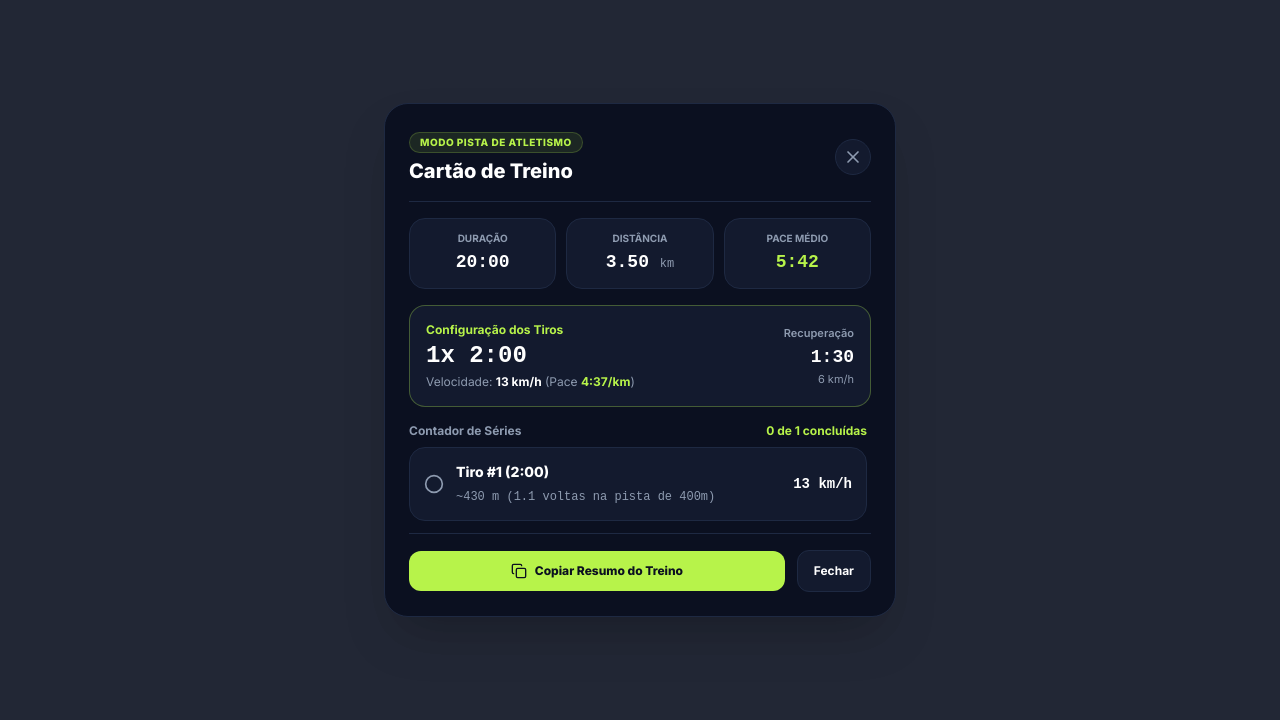
Scenario: TrackWorkoutCardModal Component › deve permitir marcar séries no checklist interativo
The image size is (1280, 720).
Expected: the text "0 de 1 concluídas" is shown, [766,423,867,439]
Click the button "Tiro #1 (2:00) ~430 m (1.1 voltas na pista de 400m) 13 km/h".
click(476, 472)  # box [409,447,867,521]
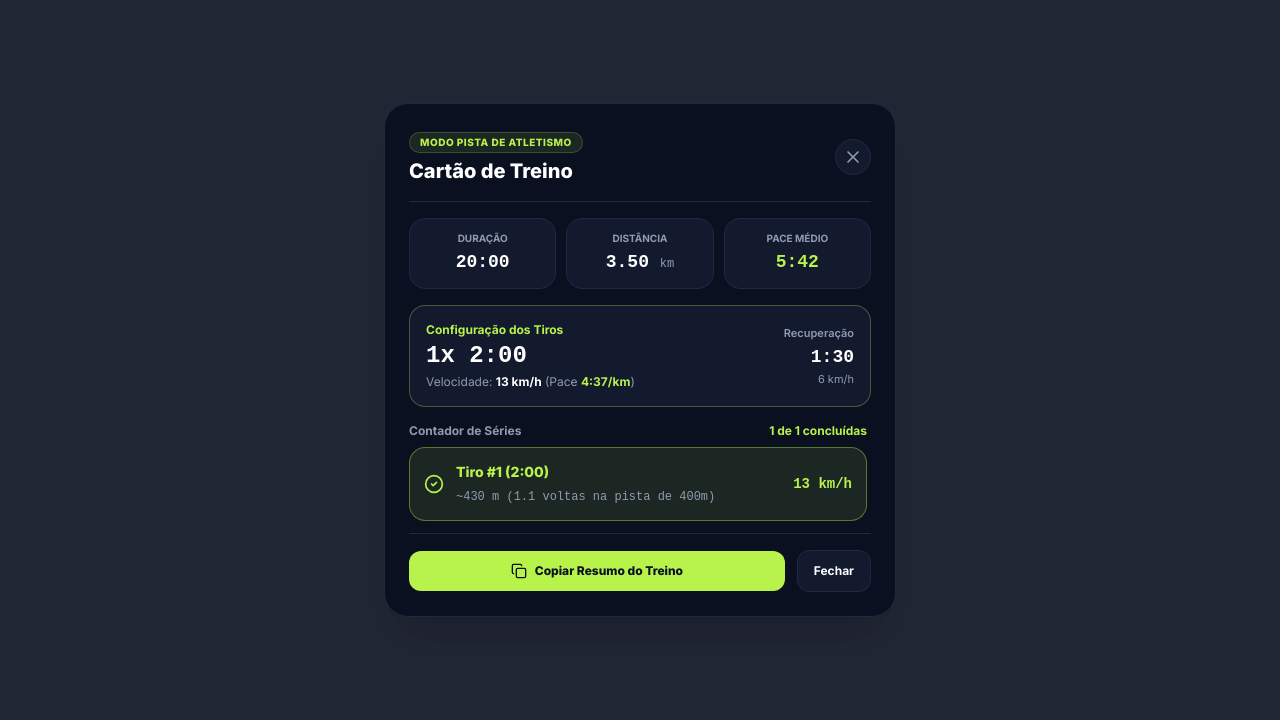
Expected: the text "1 de 1 concluídas" is shown, [769,423,867,439]
